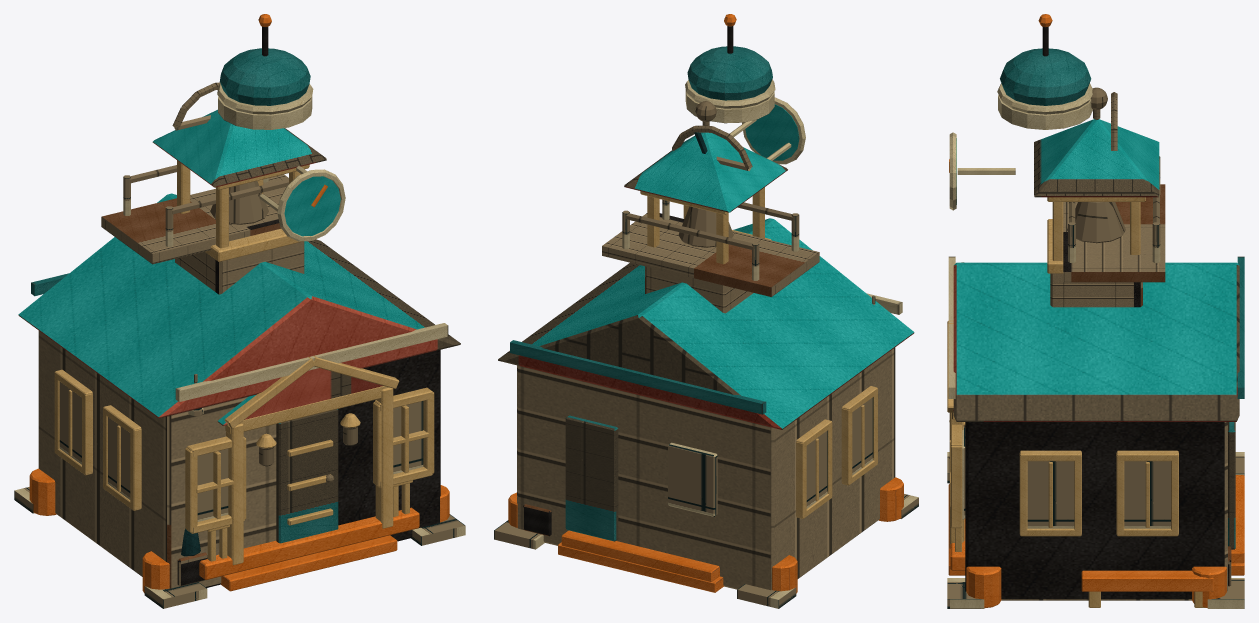
File: schoolhouse.e6.glb
3 views of the same model, side by side, from view 1: azimuth 30°, elevation 25°; view 2: azimuth 150°, elevation 25°; view 3: azimuth 270°, elevation 25° (orthographic). The views are drawn at different scales.
Parts seen in each view (by area): view 1: IsotopeInstituteE6; view 2: IsotopeInstituteE6; view 3: IsotopeInstituteE6.
Boxes of the visible parts, box(x1,y1,x2,y2) form: IsotopeInstituteE6: box(14, 14, 465, 608); IsotopeInstituteE6: box(494, 14, 918, 608); IsotopeInstituteE6: box(947, 14, 1244, 608).
Size of the model in its own units: 3.96 by 6.53 by 3.38.
1 material, 1 textured.
